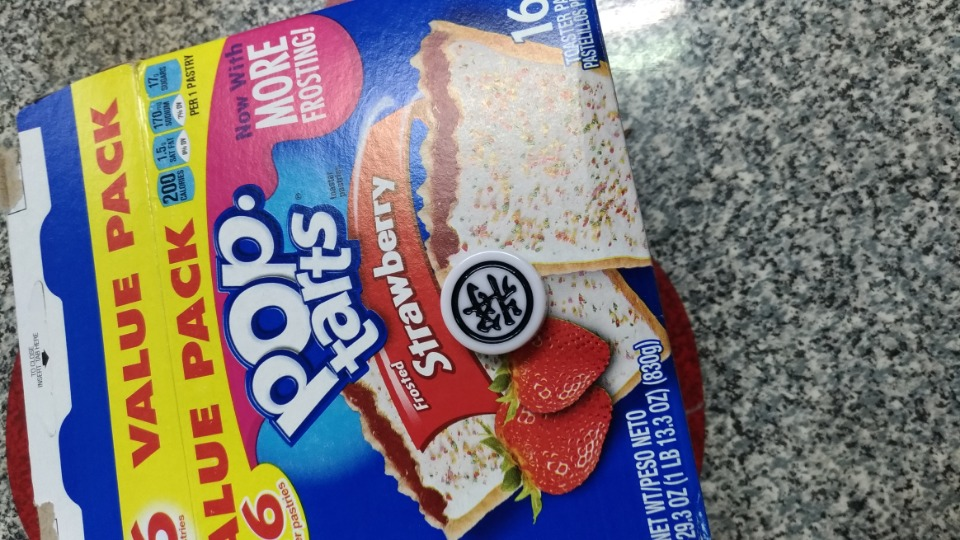b-king: (403, 240, 563, 388)
